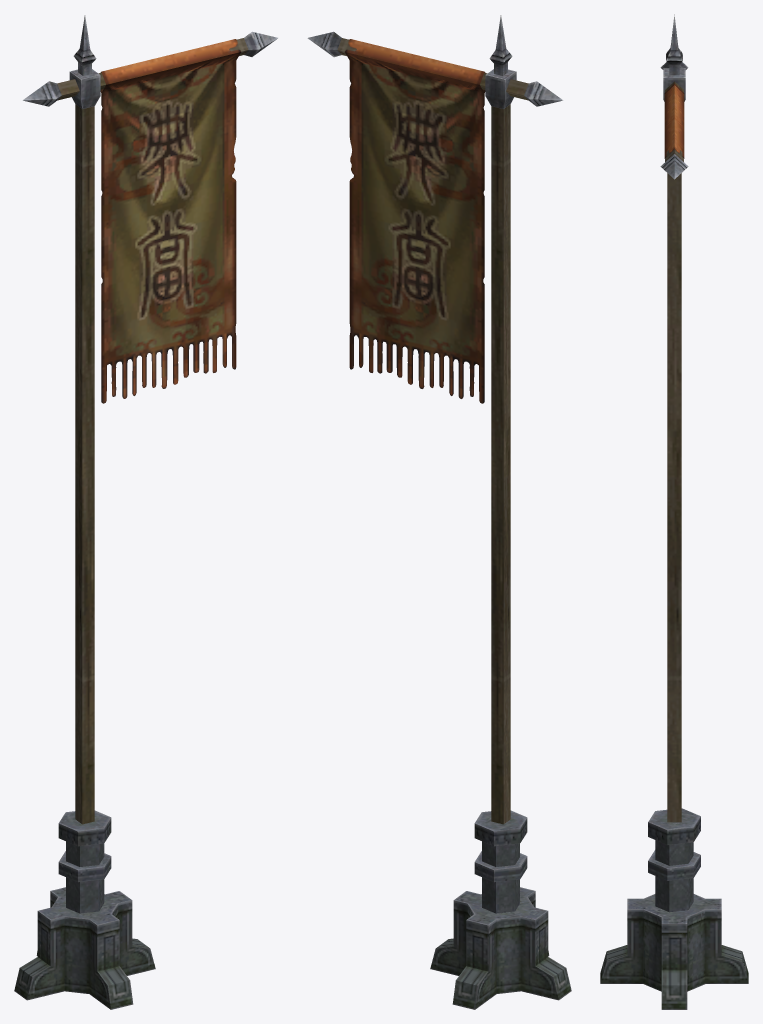
File: flag1.obj
The picture shows the model from 3 angles, left to right: view 1: azimuth 30°, elevation 25°; view 2: azimuth 150°, elevation 25°; view 3: azimuth 270°, elevation 25°; orthographic projection.
Parts seen in each view (by area): view 1: flag1; view 2: flag1; view 3: flag1.
Boxes of the visible parts, bbox=[...] form: flag1: bbox=[14, 15, 277, 1009]; flag1: bbox=[307, 15, 571, 1009]; flag1: bbox=[600, 14, 748, 1009].
Size of the model in its own units: 1.74 by 6.21 by 0.8661.
1 material, 1 textured.
